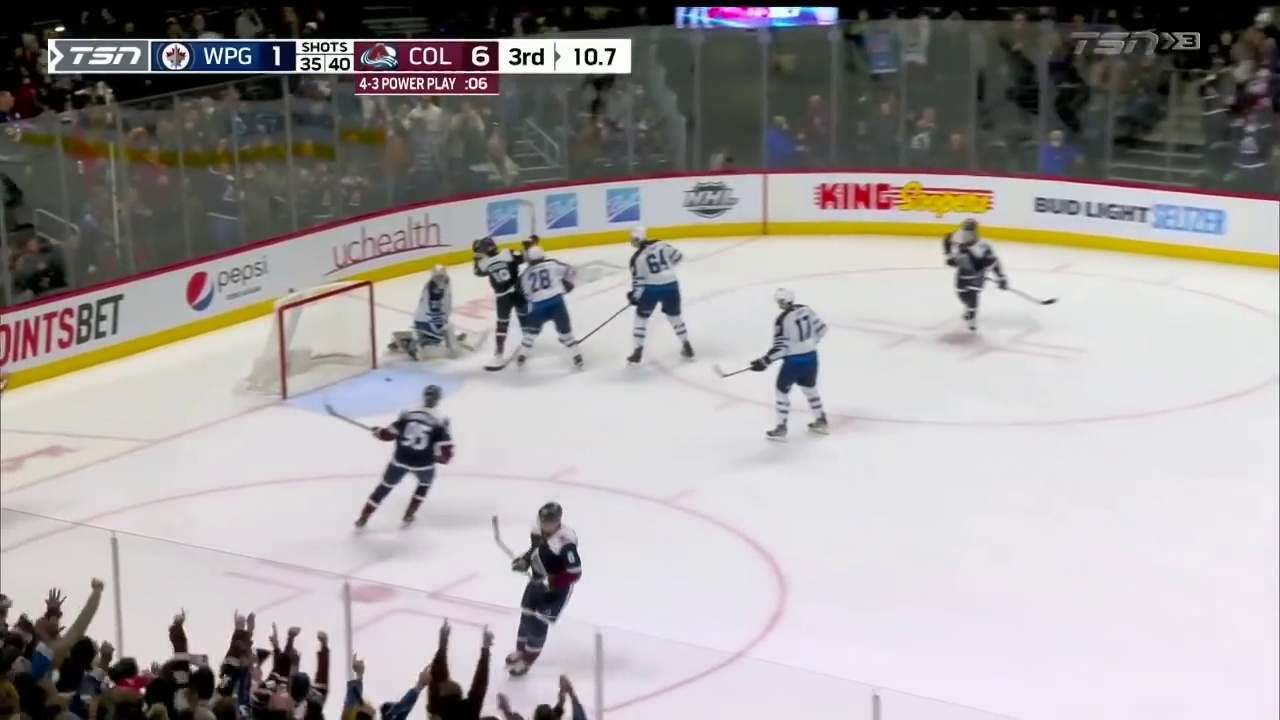goalie: (387, 263, 458, 361)
hockeyplayer: (354, 385, 456, 534), (505, 502, 582, 681), (749, 286, 829, 443), (626, 226, 695, 367), (472, 234, 542, 362), (516, 246, 583, 371), (942, 218, 1009, 332)
